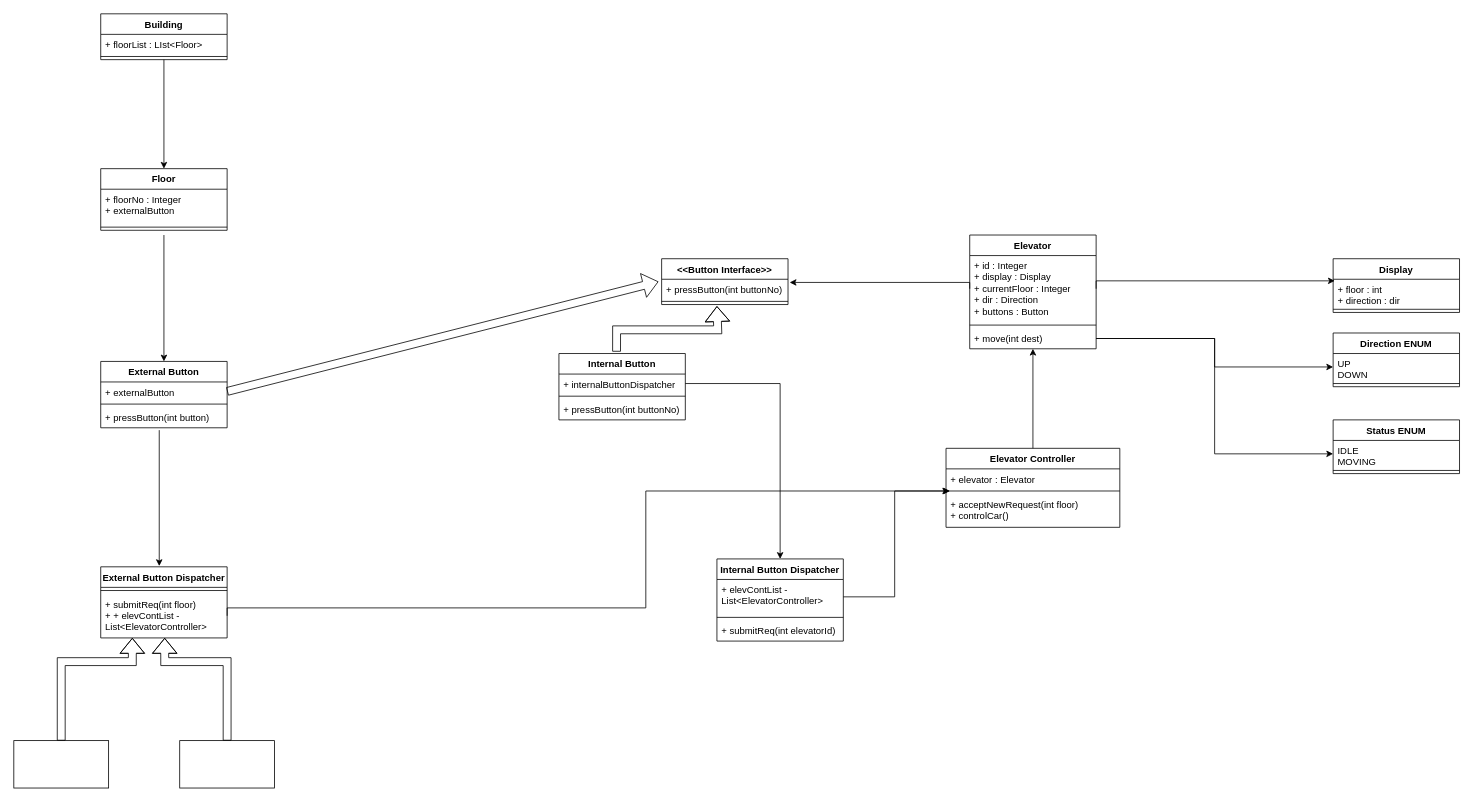
This 1473x802 diagram has some shape labels left out. Each missing label, with the centre of its shape:
"Fixed Floor Strategy" goes at (227,764).
"Odd Even Strategy" goes at (61,764).
